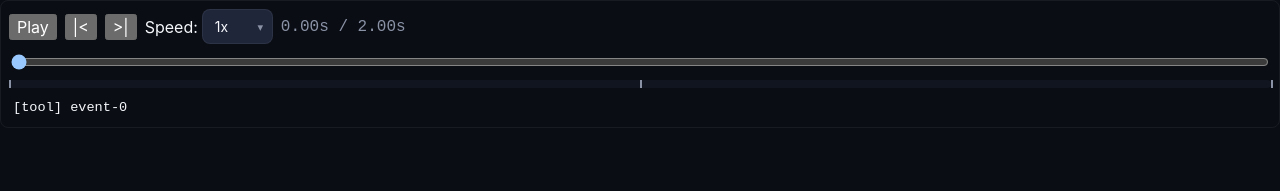
Scenario: TimelineScrubber › Go-to-start and Go-to-end buttons jump the playhead
The width and height of the screenshot is (1280, 191).
Click the button with test id "timeline-scrubber-go-end": (121, 26) x1=105 y1=14 x2=137 y2=40
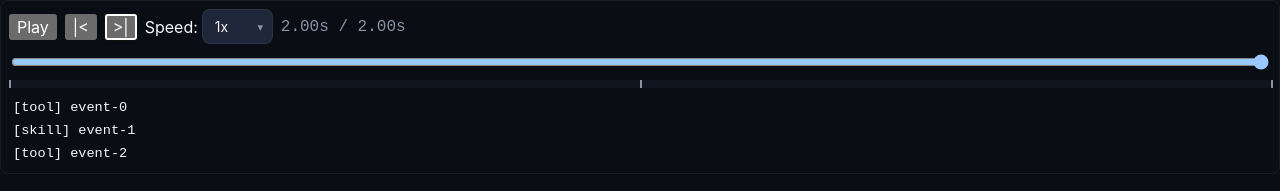
Expected: the text with test id "timeline-scrubber-playhead" shows "2.00s", x1=281 y1=18 x2=406 y2=36
Click the button with test id "timeline-scrubber-go-start": (81, 26) x1=65 y1=14 x2=97 y2=40
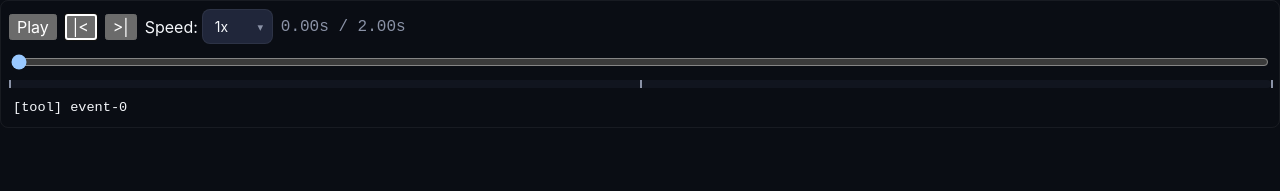
Expected: the text with test id "timeline-scrubber-playhead" shows "0.00s", x1=281 y1=18 x2=406 y2=36
